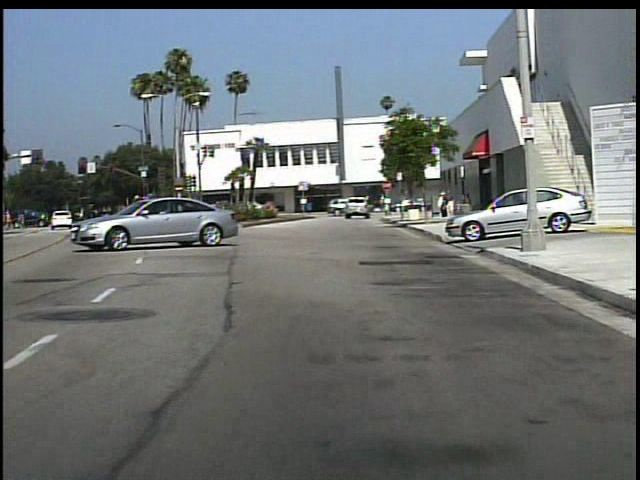person: (460, 190, 477, 223), (444, 188, 459, 224), (379, 190, 395, 219), (437, 192, 447, 220)
